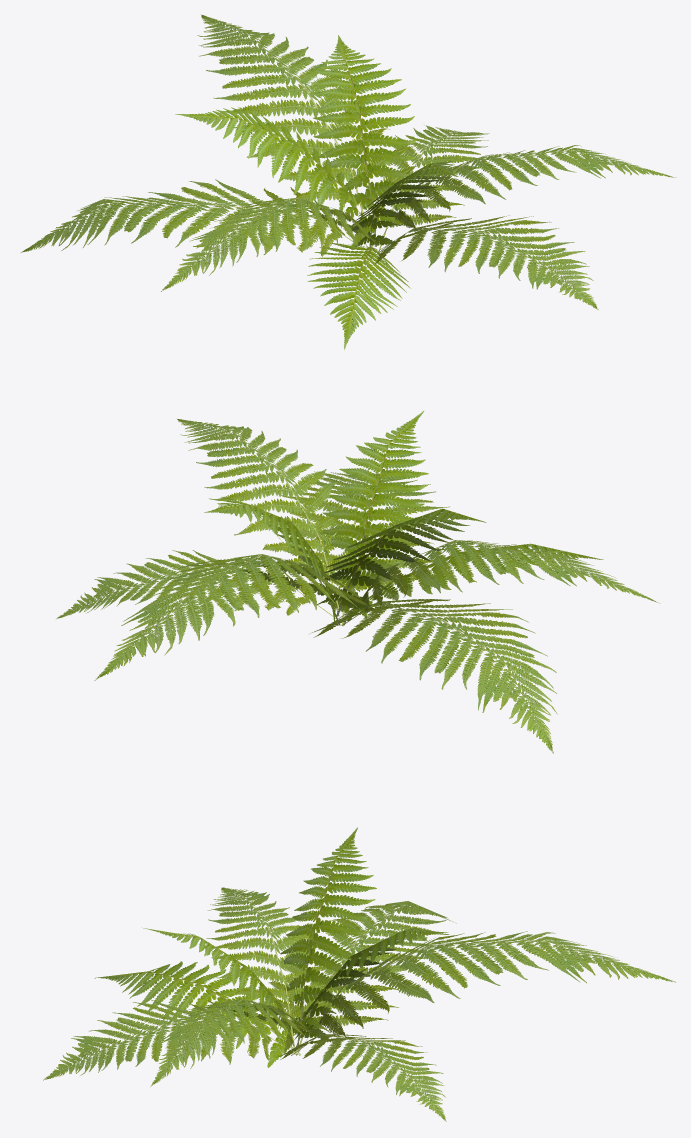
Rendered from Fern.FBX.
3 views of the same model, one above another, from view 1: azimuth 30°, elevation 25°; view 2: azimuth 150°, elevation 25°; view 3: azimuth 270°, elevation 25° (orthographic). The views are drawn at different scales.
Parts seen in each view (by area): view 1: Fern, Fern_inside; view 2: Fern, Fern_inside; view 3: Fern, Fern_inside.
Part boxes in pixels (box(x1,y1,x2,y2)): Fern: box(21, 15, 675, 349); Fern_inside: box(25, 15, 662, 345); Fern: box(57, 411, 659, 753); Fern_inside: box(60, 412, 653, 752); Fern: box(43, 827, 675, 1121); Fern_inside: box(47, 830, 671, 1119).
Bounding box in the file's own units: 178 × 58.2 × 192.
1 material, 1 textured.
